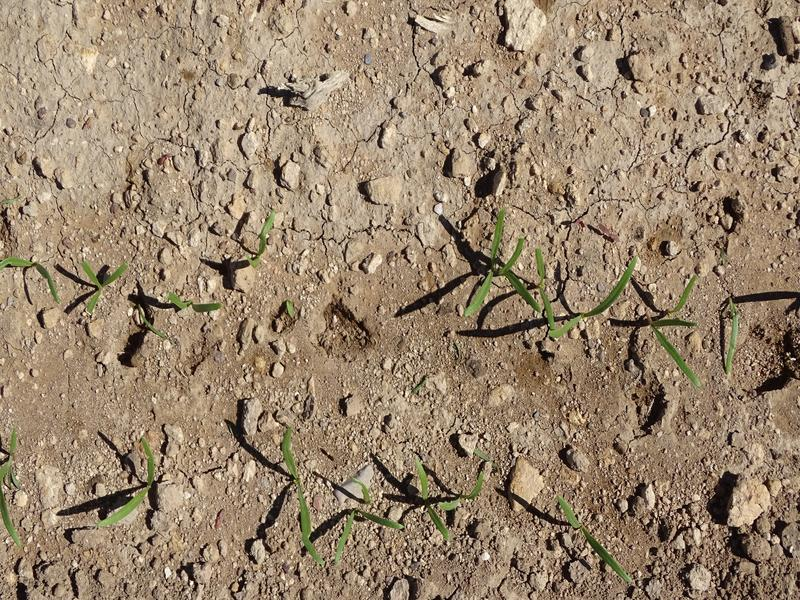Espinaca: (462, 209, 557, 327), (551, 496, 643, 584), (551, 256, 644, 338), (645, 284, 708, 385), (282, 423, 326, 562), (102, 437, 158, 530), (410, 456, 467, 537), (336, 504, 402, 567), (3, 250, 61, 303), (77, 263, 126, 313), (1, 456, 25, 546), (162, 287, 225, 315), (248, 213, 276, 268)
